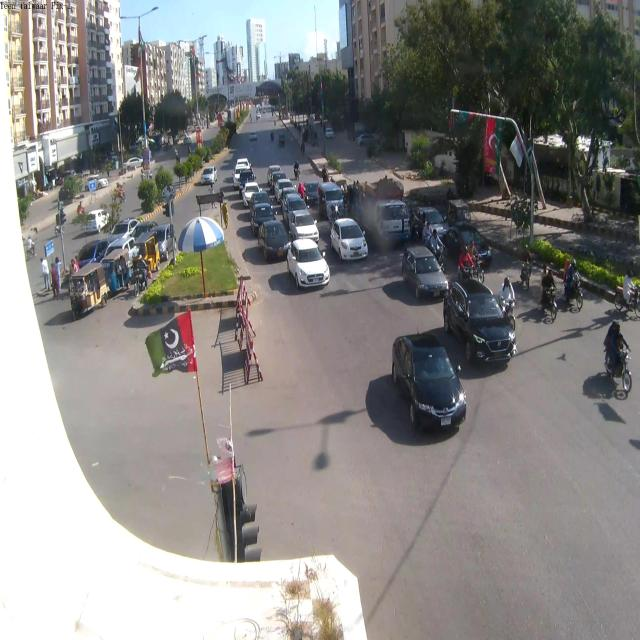car: (392, 333, 471, 439), (442, 276, 516, 369), (403, 247, 450, 300), (285, 238, 331, 287), (447, 223, 497, 267), (332, 219, 368, 262), (411, 204, 448, 245), (259, 220, 290, 262), (316, 182, 346, 220), (287, 194, 314, 226), (292, 214, 320, 244), (108, 218, 144, 240), (241, 184, 266, 207), (253, 203, 276, 224), (279, 181, 298, 199), (88, 178, 110, 192), (268, 165, 285, 182), (201, 167, 216, 185), (235, 158, 252, 172), (126, 158, 142, 168)
motorbike: (606, 321, 632, 391), (614, 269, 640, 319), (562, 259, 582, 313), (540, 262, 557, 324), (458, 245, 488, 280), (424, 228, 446, 271), (502, 277, 518, 329), (469, 242, 486, 282), (134, 255, 148, 295), (522, 246, 534, 290), (460, 246, 474, 276), (294, 160, 299, 180)
truck: (343, 178, 412, 246), (76, 220, 144, 274)
